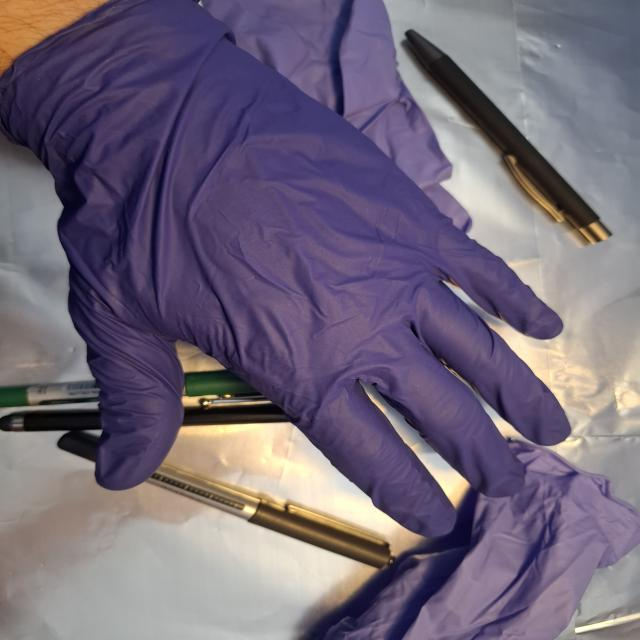glove_on: (4, 0, 576, 542)
